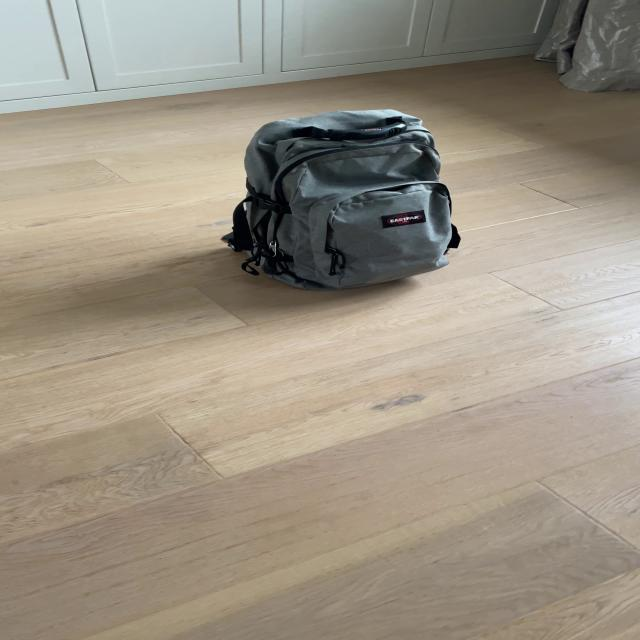backpack: (218, 100, 466, 296)
